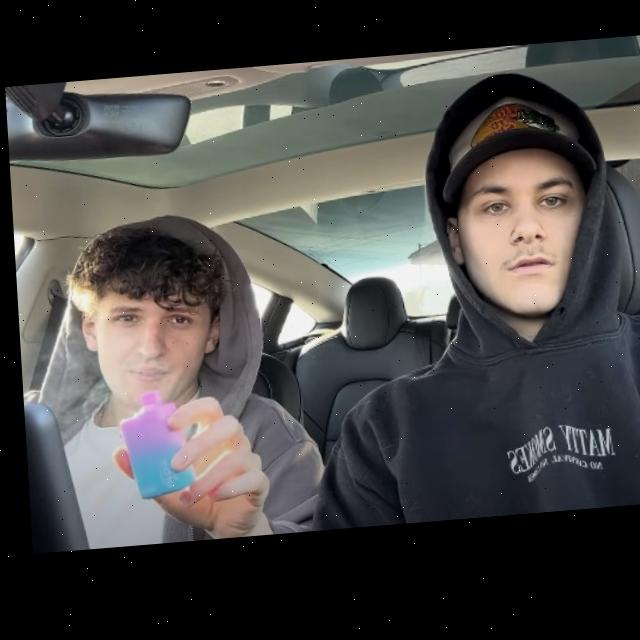vape: (113, 389, 190, 502)
